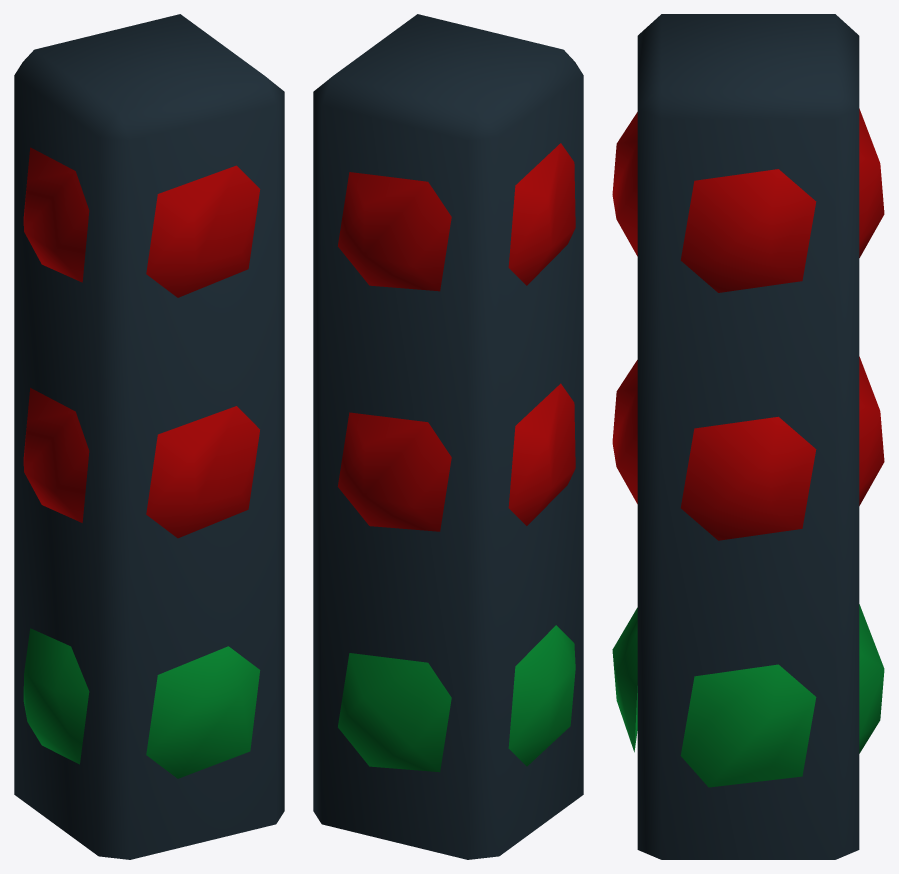
The model's file is SM_StartLamp.fbx.
3 renders of one model, left to right at view 1: azimuth 30°, elevation 25°; view 2: azimuth 150°, elevation 25°; view 3: azimuth 270°, elevation 25°, orthographic. The views are drawn at different scales.
Parts seen in each view (by area): view 1: transform1; view 2: transform1; view 3: transform1.
Boxes of the visible parts, bbox=[...] form: transform1: bbox=[14, 14, 284, 859]; transform1: bbox=[313, 14, 583, 859]; transform1: bbox=[612, 14, 884, 859].
Size of the model in its own units: 49.76 by 154 by 49.76.
